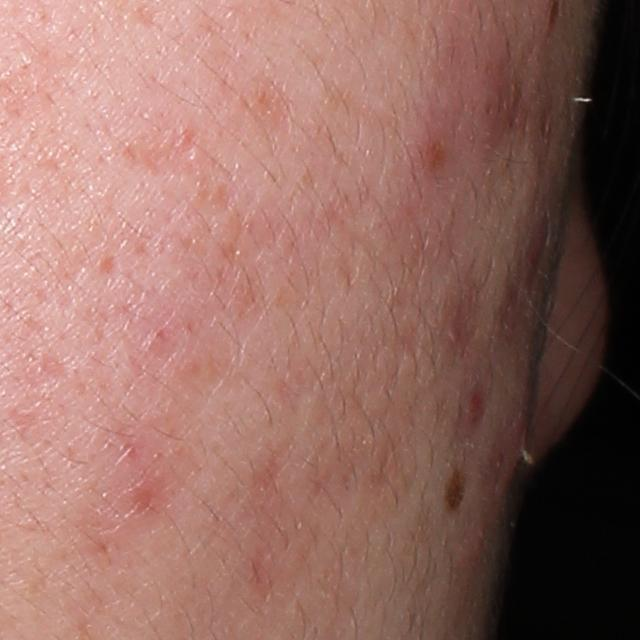atrophic_scar: (118, 120, 212, 187), (93, 249, 120, 278)
nevus: (443, 470, 466, 522)
